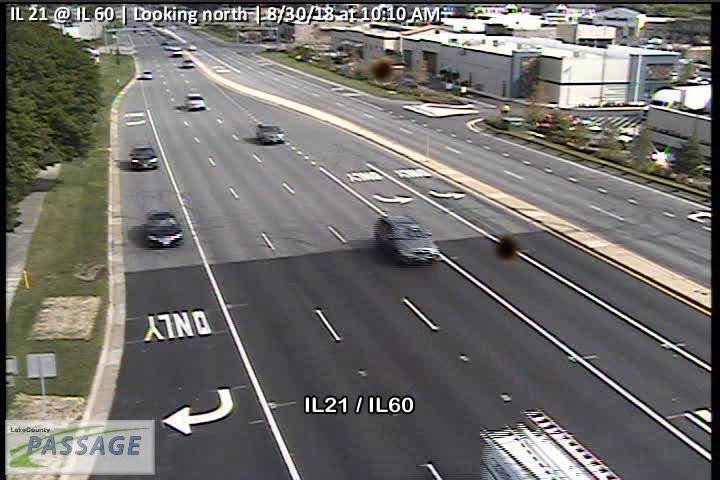SUV: (374, 214, 441, 266), (256, 122, 285, 145), (184, 93, 205, 110)
Sedan: (143, 211, 183, 248), (128, 145, 159, 170)
